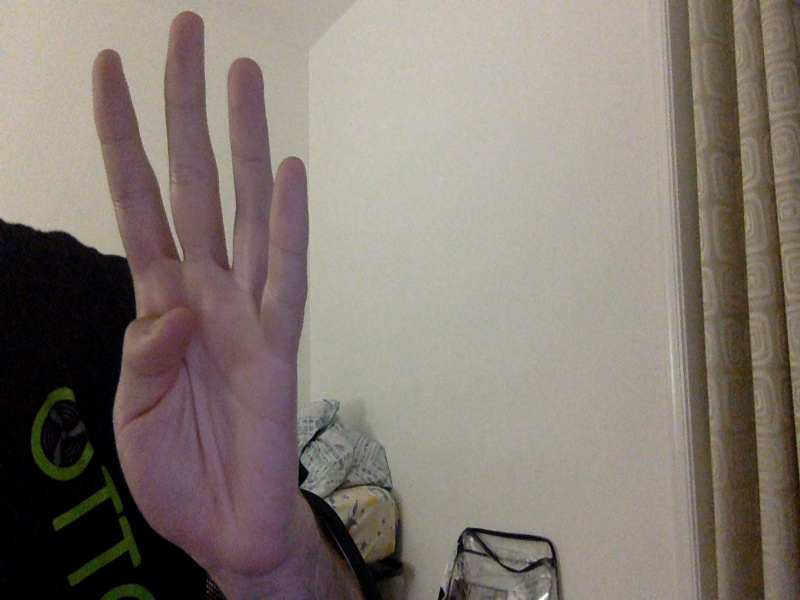4-hand: (90, 11, 314, 575)
